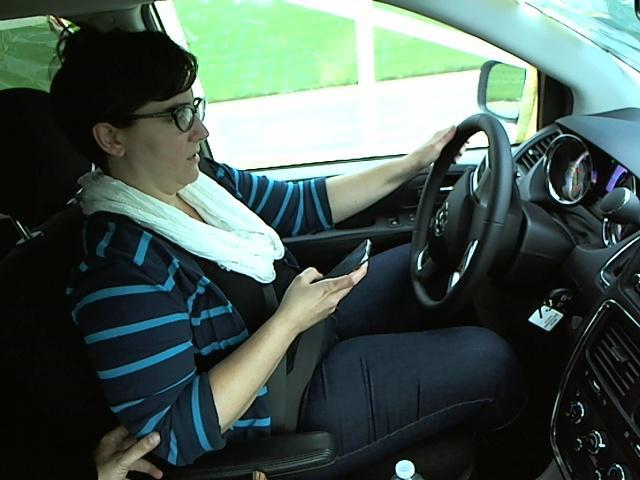PhoneUse: (311, 231, 378, 299)
